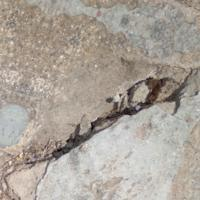crack: (9, 68, 190, 180)
